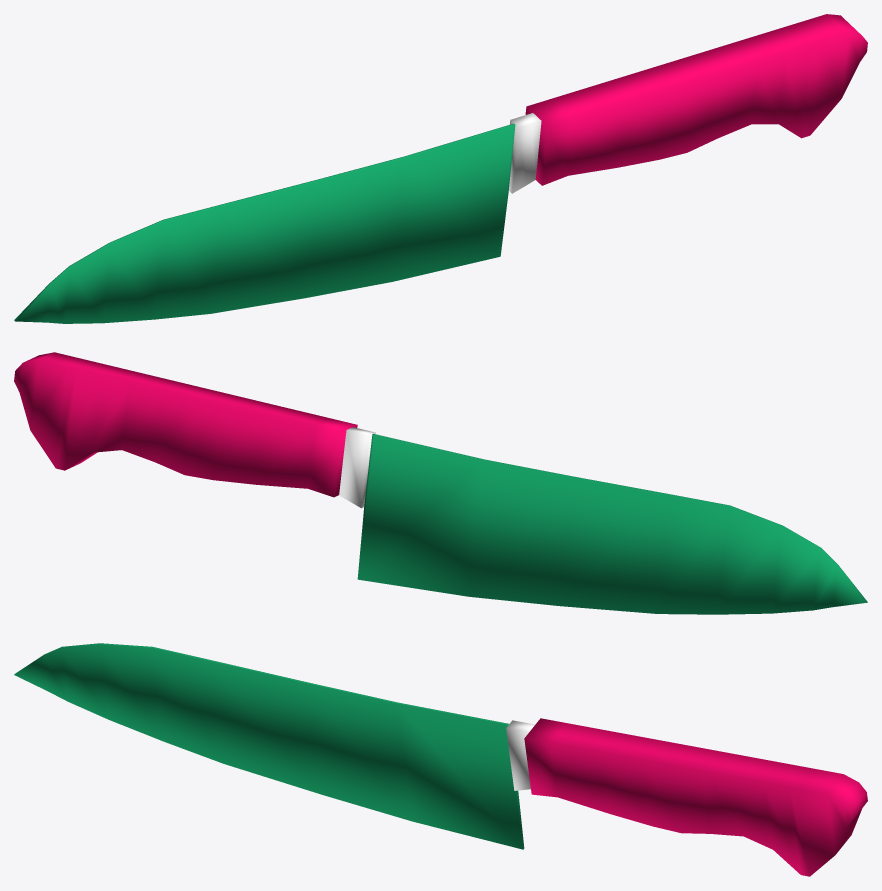
The model's file is knife_lvl_2_last (1).fbx.
3 views of the same model, one above another, from view 1: azimuth 30°, elevation 25°; view 2: azimuth 150°, elevation 25°; view 3: azimuth 330°, elevation 25° (orthographic). The views are drawn at different scales.
Parts seen in each view (by area): view 1: Knife_lvl_2; view 2: Knife_lvl_2; view 3: Knife_lvl_2.
Boxes of the visible parts, <box> form: Knife_lvl_2: <box>14,14,867,323</box>; Knife_lvl_2: <box>14,352,867,614</box>; Knife_lvl_2: <box>14,643,867,876</box>.
Bounding box in the file's own units: 2.45 × 0.4211 × 0.2274.
